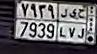3: (38, 3, 46, 38)
7: (19, 2, 29, 38)
9: (29, 3, 37, 38), (47, 4, 55, 39)
J: (77, 8, 86, 39)
L: (59, 8, 68, 39)
V: (69, 8, 76, 39)
